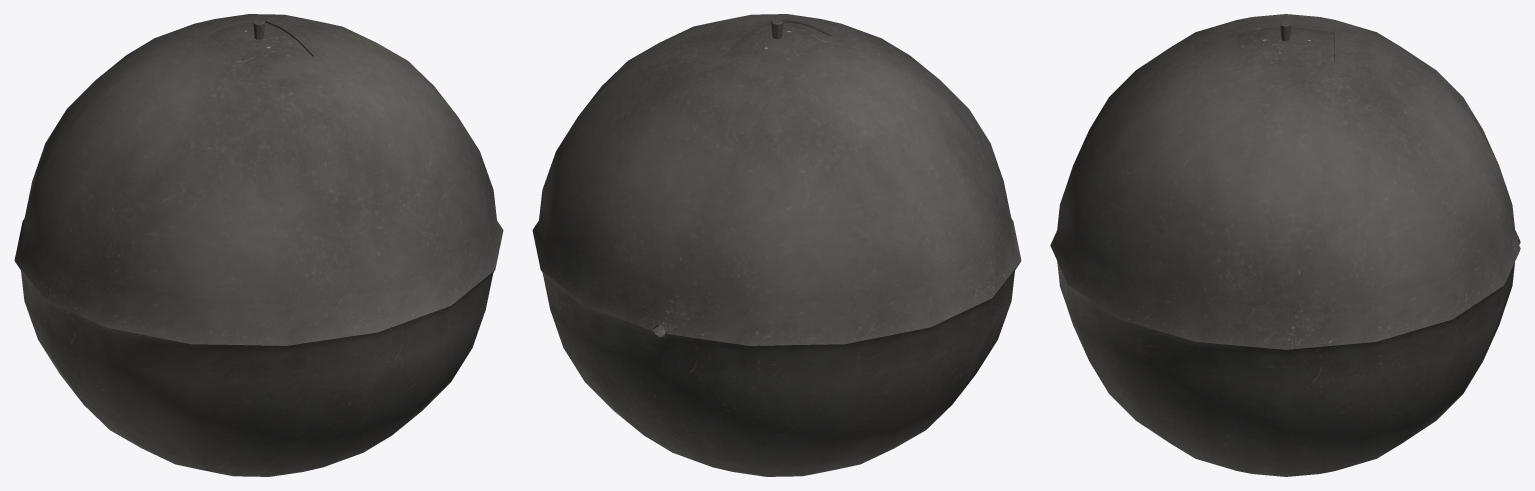
File: SM_Bomb_Shell.fbx
The picture shows the model from 3 angles, left to right: view 1: azimuth 30°, elevation 25°; view 2: azimuth 150°, elevation 25°; view 3: azimuth 270°, elevation 25°; orthographic projection.
Parts seen in each view (by area): view 1: SM_Bomb_Shell; view 2: SM_Bomb_Shell; view 3: SM_Bomb_Shell.
Part boxes in pixels (bbox=[...]): SM_Bomb_Shell: bbox=[14, 14, 503, 476]; SM_Bomb_Shell: bbox=[532, 14, 1021, 476]; SM_Bomb_Shell: bbox=[1050, 14, 1520, 476].
Bounding box in the file's own units: 21 × 20 × 20.
Materials: 1 (1 with a texture image).
